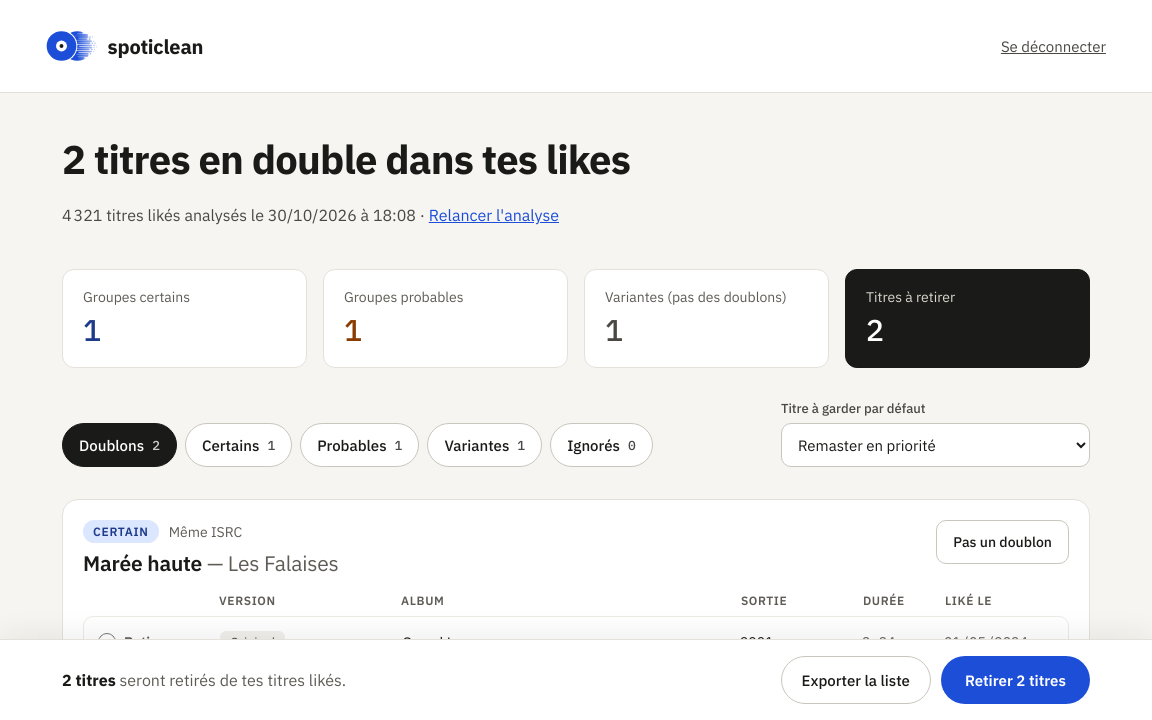
Scenario: ReviewScreen › filters by tab
Click the button "Variantes 1". click: (485, 445)
box: [427,423,542,467]
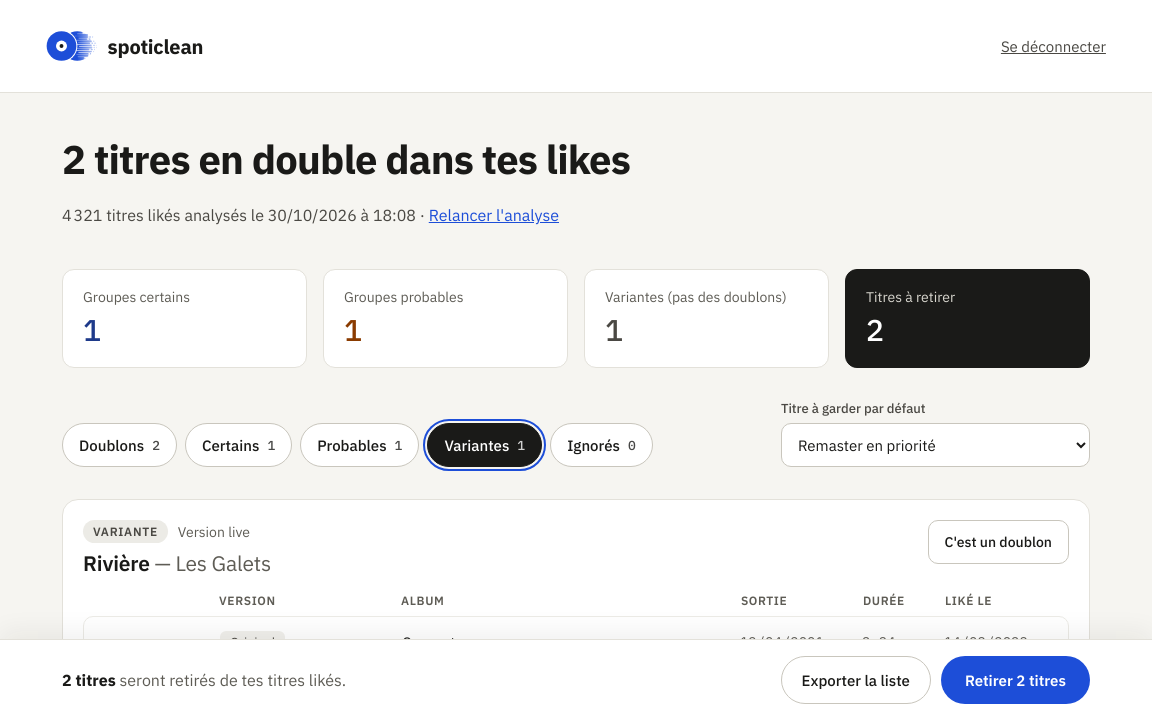
expect the heading "Marée haute" is gone: met
Click the button "Ignorés 0". click: (601, 445)
box: [550,423,653,467]
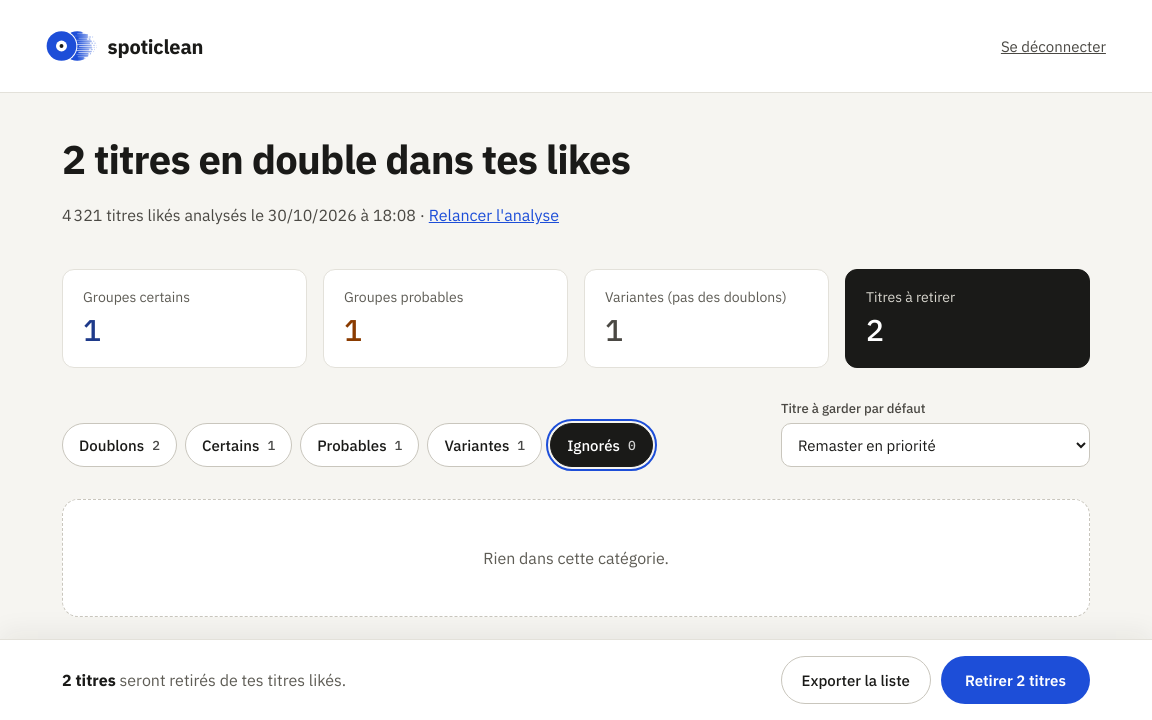
expect the text "Rien dans cette catégorie." is shown: met, box [62,499,1090,617]
